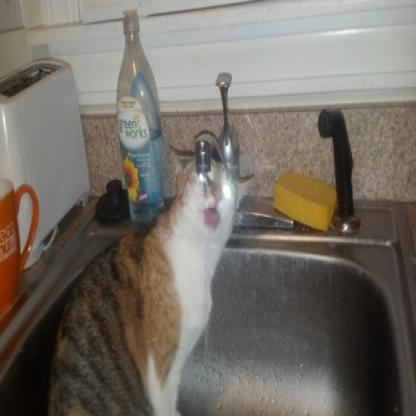Target: (44, 152, 256, 416)
